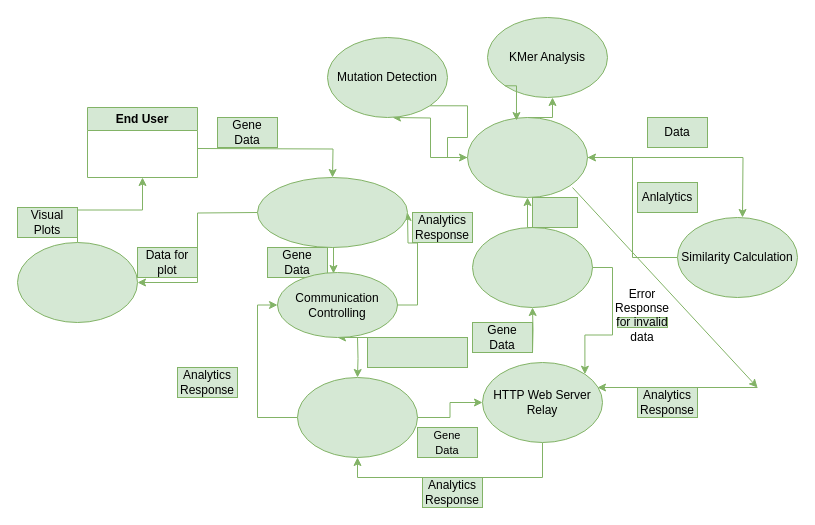
This 815x525 diagram has some shape labels left out. The shapes that lost their labels are listed below. From the top down, each one's centre as x and y in pixels, then its label:
At point 527,157: "Endpoint Routing".
At point 332,212: "Data Upload".
At point 555,212: "Valid Data".
At point 77,282: "Data Vis".
At point 532,267: "Data Validation".
At point 417,352: "Gene Data, Request Endpoint".
At point 357,417: "Request Routing".
